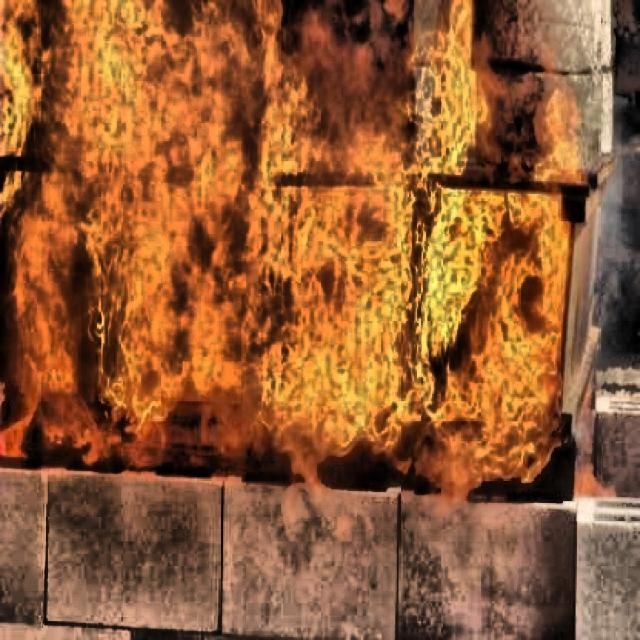Fire: (0, 0, 586, 495)
